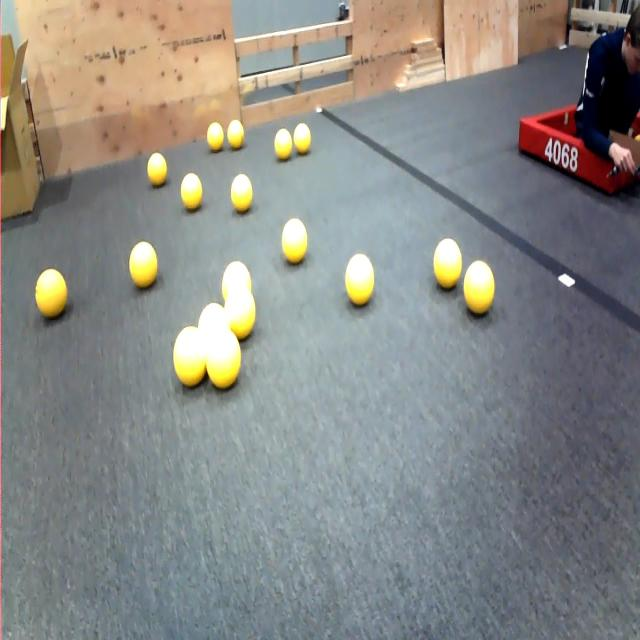fuel: (206, 326, 241, 389), (173, 326, 206, 387), (464, 261, 494, 315), (35, 269, 67, 319), (225, 287, 255, 340), (345, 254, 374, 305), (434, 239, 462, 289), (198, 303, 228, 348), (129, 241, 157, 288), (221, 261, 251, 300), (282, 218, 307, 263), (198, 303, 228, 332), (231, 174, 252, 213), (181, 173, 202, 210), (147, 152, 167, 186), (274, 128, 292, 160), (206, 122, 224, 152), (227, 119, 245, 149), (294, 123, 311, 154), (634, 134, 640, 142)
